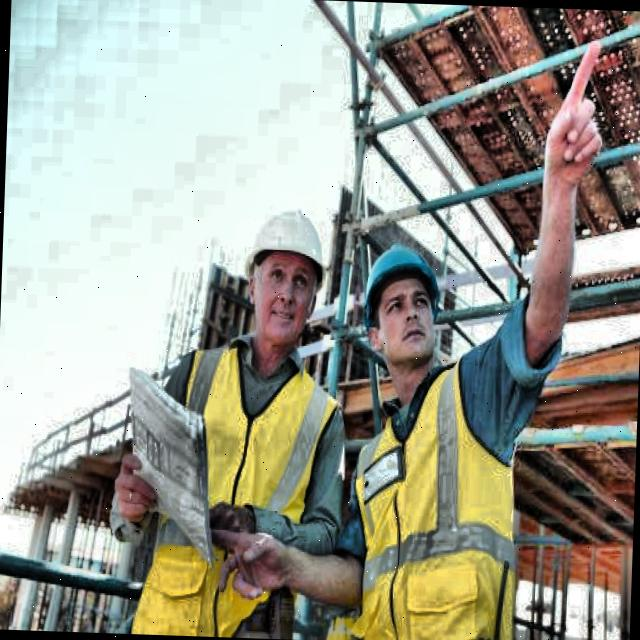helmet: (229, 178, 340, 362), (353, 220, 452, 388)
